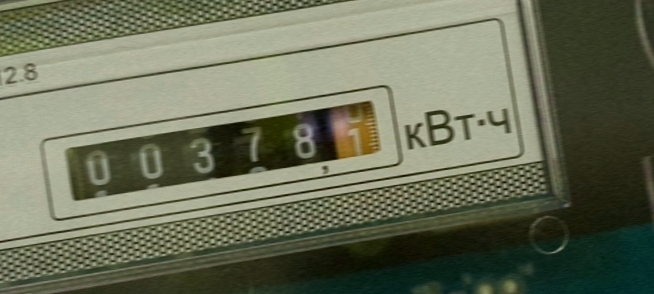0: (83, 144, 115, 187), (136, 139, 165, 180), (341, 100, 365, 125)
1: (343, 123, 366, 157)
3: (186, 133, 217, 176)
7: (238, 123, 266, 164)
8: (289, 118, 318, 161)
screen: (41, 79, 402, 213)
